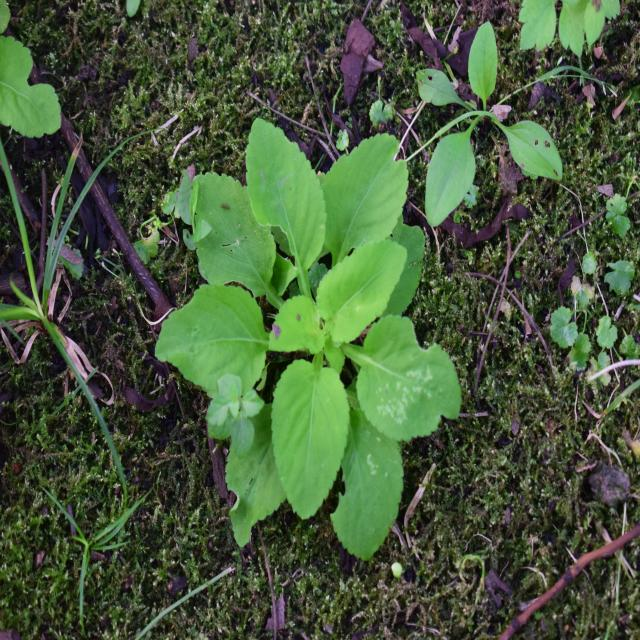Viola: (191, 127, 478, 539)
